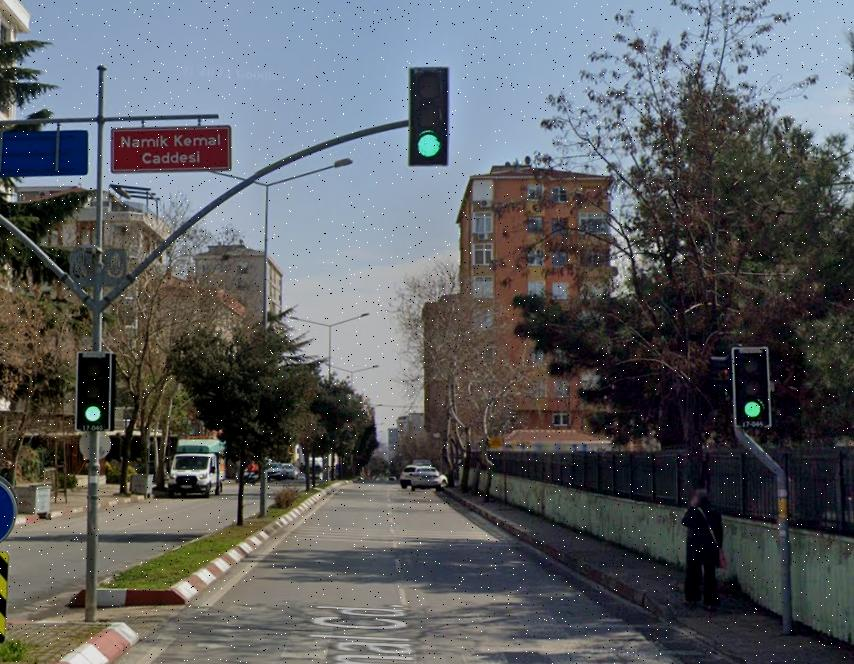greenlight: (406, 63, 454, 172), (727, 343, 777, 435), (74, 349, 116, 435)
